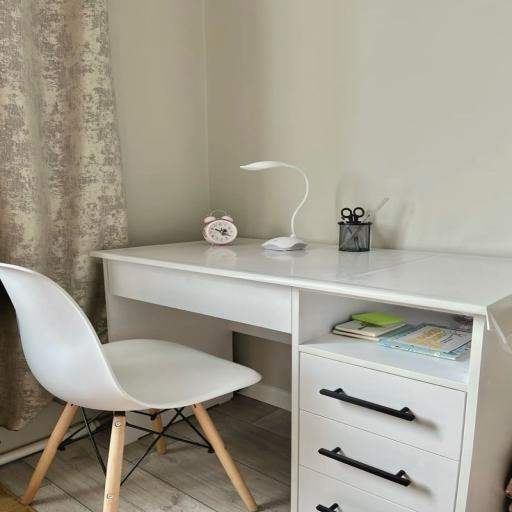bed: (373, 318, 483, 362)
bottle: (0, 263, 261, 512)
phone: (88, 225, 511, 508)
